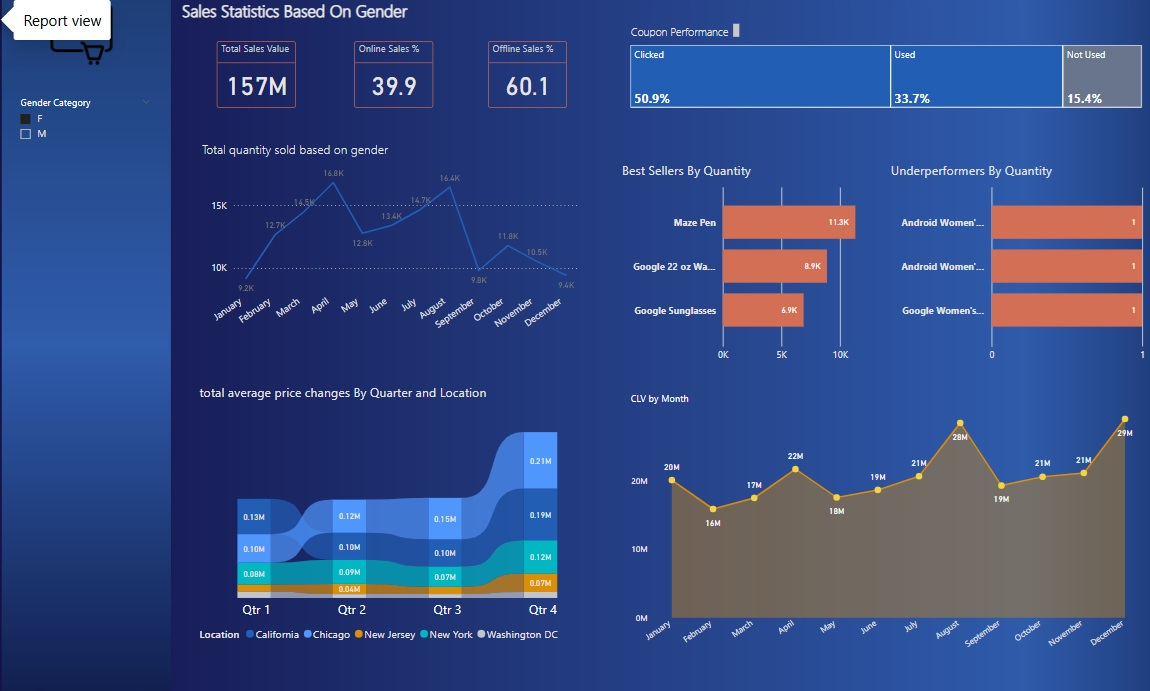

Layout of this report page (visuals, bound fields, positions):
{"tool":"powerbi","page":{"name":"Page 1","canvas":[1500,900],"ordinal":0},"visuals":[{"type":"image","box":[0,1.7,227.2,898.7],"z":0},{"type":"treemap","title":"Coupon Performance","fields":{"Values":["Sum(Online_Sales.SumOfSpend)"],"Group":["Online_Sales.Coupon_Status"]},"box":[808.9,59.5,667.3,85.2],"z":1000},{"type":"lineChart","title":"Total quantity sold based on gender","fields":{"Category":["Online_Sales.Date.Variation.Date Hierarchy.Month"],"Y":["Online_Sales.TotalQuantitySold"]},"box":[257.3,186.5,493.7,265.3],"z":2000},{"type":"image","box":[50.1,6.7,115.3,88.5],"z":3000},{"type":"textbox","box":[231.6,0,313.6,51.5],"z":4000},{"type":"card","title":"Total Sales Value","fields":{"Values":["Sum(Online_Sales.SumOfSpend)"]},"box":[281.4,59.5,101.3,85.2],"z":5000},{"type":"card","title":"Online Sales %","fields":{"Values":["Online_Sales.Online Sales Percentage"]},"box":[458.3,59.5,101.3,85.2],"z":6000},{"type":"card","title":"Offline Sales %","fields":{"Values":["Online_Sales.Offline Sales Percentage"]},"box":[630.4,59.5,101.3,85.2],"z":7000},{"type":"ribbonChart","title":"total average price changes By Quarter and Location","fields":{"Category":["Online_Sales.Date.Variation.Date Hierarchy.Quarter","Online_Sales.Date.Variation.Date Hierarchy.Month","Online_Sales.Date.Variation.Date Hierarchy.Day"],"Series":["Online_Sales.Location"],"Y":["Sum(Online_Sales.Avg_Price)"]},"box":[254.1,500.1,525.8,340.9],"z":8000},{"type":"barChart","title":"Best Sellers By Quantity","fields":{"Category":["Online_Sales.Product_Description"],"Y":["Online_Sales.TotalQuantitySold"]},"box":[797.6,213.9,345.7,266.9],"z":9000},{"type":"barChart","title":"Underperformers By Quantity","fields":{"Category":["Online_Sales.Product_Description"],"Y":["Online_Sales.TotalQuantitySold"]},"box":[1143.3,213.9,345.7,266.9],"z":10000},{"type":"textbox","box":[808.9,32.2,150,27.3],"z":11000},{"type":"slicer","fields":{"Values":["Online_Sales.Gender"]},"box":[16.7,125,191.7,301.7],"z":12000},{"type":"areaChart","fields":{"Category":["Online_Sales.Transaction_Date.Variation.Date Hierarchy.Month"],"Y":["Online_Sales.CLV"]},"box":[808.9,511.4,667.3,340.9],"z":13000}]}

Visuals, with their boxes on the page's 1500x900 design canvas (x1, y1, x2, y2). These are canvas units, not pixel positions in the 1150x691 screenshot, which may show the page scaled, cropped or inside an application window:
image: crop(0, 2, 227, 900)
"Coupon Performance" treemap: crop(809, 60, 1476, 145)
"Total quantity sold based on gender" lineChart: crop(257, 186, 751, 452)
image: crop(50, 7, 165, 95)
textbox: crop(232, 0, 545, 52)
"Total Sales Value" card: crop(281, 60, 383, 145)
"Online Sales %" card: crop(458, 60, 560, 145)
"Offline Sales %" card: crop(630, 60, 732, 145)
"total average price changes By Quarter and Location" ribbonChart: crop(254, 500, 780, 841)
"Best Sellers By Quantity" barChart: crop(798, 214, 1143, 481)
"Underperformers By Quantity" barChart: crop(1143, 214, 1489, 481)
textbox: crop(809, 32, 959, 60)
slicer - Online_Sales.Gender: crop(17, 125, 208, 427)
areaChart - Online_Sales.Transaction_Date.Variation.Date Hierarchy.Month x Online_Sales.CLV: crop(809, 511, 1476, 852)
